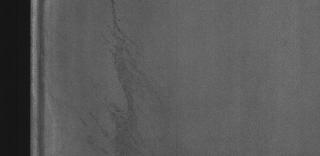water spot: (90, 1, 152, 154)
